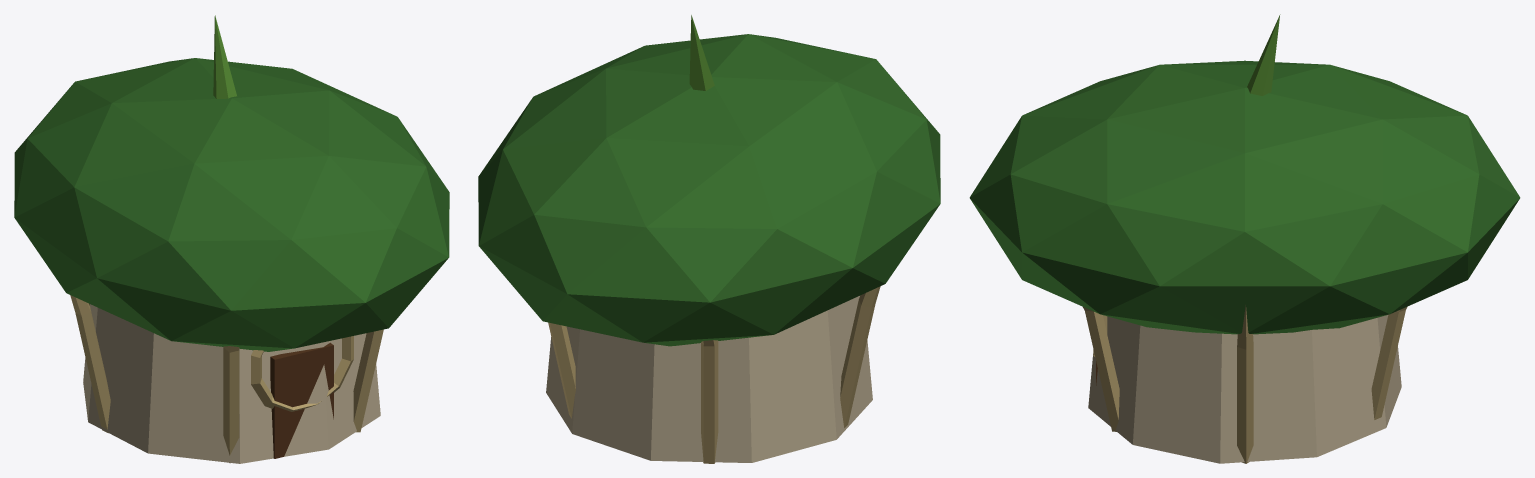
The model's file is elf_house_a_broken.glb.
3 renders of one model, left to right at view 1: azimuth 30°, elevation 25°; view 2: azimuth 150°, elevation 25°; view 3: azimuth 270°, elevation 25°, orthographic. The views are drawn at different scales.
Visible parts, largest first — view 1: elf_house_a_piece11, elf_house_a_piece3, elf_house_a_piece2, elf_house_a_piece4, elf_house_a_piece12, elf_house_a_piece5, elf_house_a_piece1, elf_house_a_piece9, elf_house_a_piece8, elf_house_a_piece6; view 2: elf_house_a_piece3, elf_house_a_piece13, elf_house_a_piece8, elf_house_a_piece12, elf_house_a_piece4, elf_house_a_piece7, elf_house_a_piece10, elf_house_a_piece5, elf_house_a_piece1, elf_house_a_piece0, elf_house_a_piece11, elf_house_a_piece6; view 3: elf_house_a_piece7, elf_house_a_piece9, elf_house_a_piece4, elf_house_a_piece6, elf_house_a_piece2, elf_house_a_piece8, elf_house_a_piece11, elf_house_a_piece5, elf_house_a_piece13, elf_house_a_piece10, elf_house_a_piece0, elf_house_a_piece3 (+1 smaller).
Boxes of the visible parts, left/top/right/bottom form: elf_house_a_piece11: left=162, top=187, right=423, bottom=382; elf_house_a_piece3: left=14, top=98, right=202, bottom=336; elf_house_a_piece2: left=148, top=158, right=427, bottom=463; elf_house_a_piece4: left=196, top=18, right=417, bottom=145; elf_house_a_piece12: left=80, top=304, right=164, bottom=453; elf_house_a_piece5: left=227, top=129, right=407, bottom=217; elf_house_a_piece1: left=155, top=130, right=249, bottom=402; elf_house_a_piece9: left=356, top=153, right=449, bottom=416; elf_house_a_piece8: left=14, top=15, right=215, bottom=161; elf_house_a_piece6: left=249, top=117, right=443, bottom=183; elf_house_a_piece3: left=708, top=85, right=940, bottom=348; elf_house_a_piece13: left=491, top=201, right=801, bottom=463; elf_house_a_piece8: left=573, top=15, right=737, bottom=350; elf_house_a_piece12: left=707, top=296, right=872, bottom=448; elf_house_a_piece4: left=524, top=20, right=783, bottom=132; elf_house_a_piece7: left=478, top=95, right=603, bottom=444; elf_house_a_piece10: left=521, top=131, right=615, bottom=448; elf_house_a_piece5: left=641, top=34, right=877, bottom=82; elf_house_a_piece1: left=752, top=66, right=932, bottom=136; elf_house_a_piece0: left=507, top=150, right=592, bottom=214; elf_house_a_piece11: left=770, top=37, right=940, bottom=166; elf_house_a_piece6: left=571, top=46, right=751, bottom=79; elf_house_a_piece7: left=1210, top=187, right=1475, bottom=458; elf_house_a_piece9: left=1009, top=143, right=1246, bottom=463; elf_house_a_piece4: left=1185, top=18, right=1369, bottom=343; elf_house_a_piece6: left=1130, top=90, right=1292, bottom=463; elf_house_a_piece2: left=1006, top=104, right=1132, bottom=443; elf_house_a_piece8: left=1272, top=14, right=1487, bottom=146; elf_house_a_piece11: left=969, top=88, right=1091, bottom=273; elf_house_a_piece5: left=1085, top=83, right=1198, bottom=349; elf_house_a_piece13: left=1385, top=140, right=1520, bottom=404; elf_house_a_piece10: left=1351, top=128, right=1442, bottom=410; elf_house_a_piece0: left=1395, top=140, right=1463, bottom=209; elf_house_a_piece3: left=1097, top=60, right=1411, bottom=90.
Bounding box in the file's own units: 2.38 × 2.41 × 3.12.
